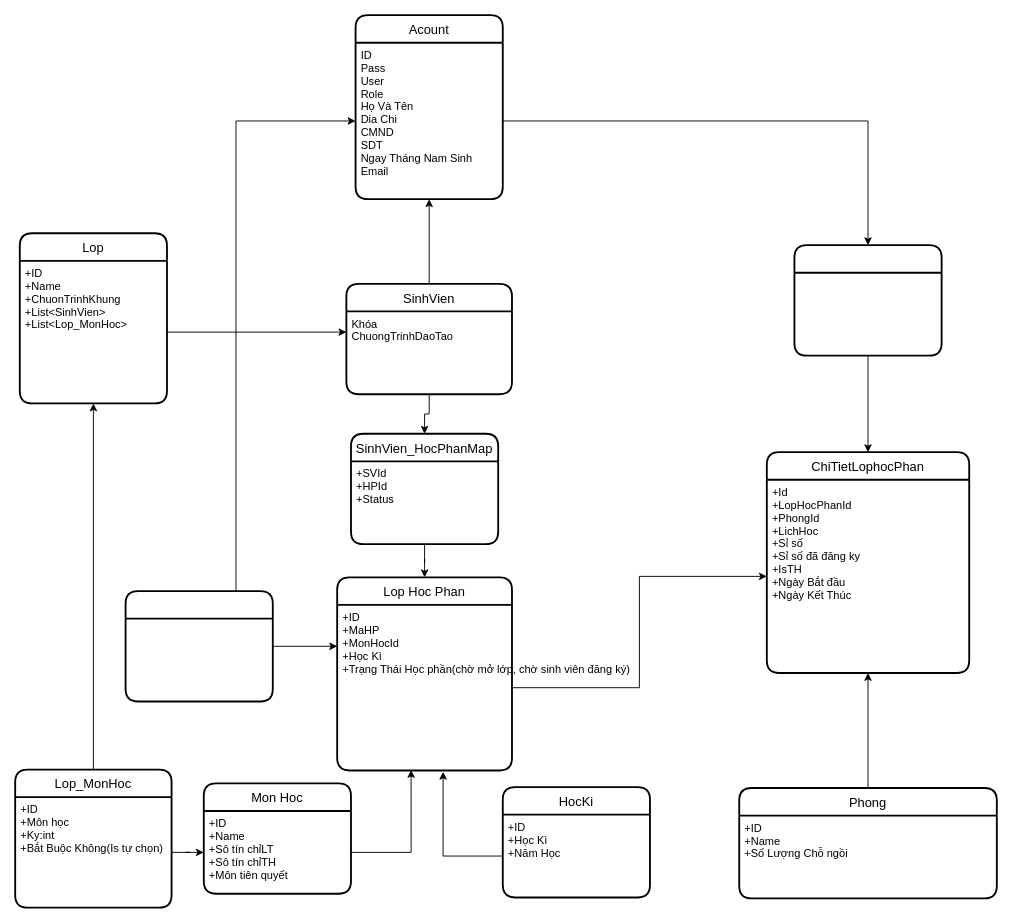
The diagram is 1012 pixels wide and 923 high, and some of its shapes have lost their labels. Each missing label, with the centre of its shape:
"Giang Vien" belongs at [867,300].
"NhanVienPDT" belongs at [198,646].
